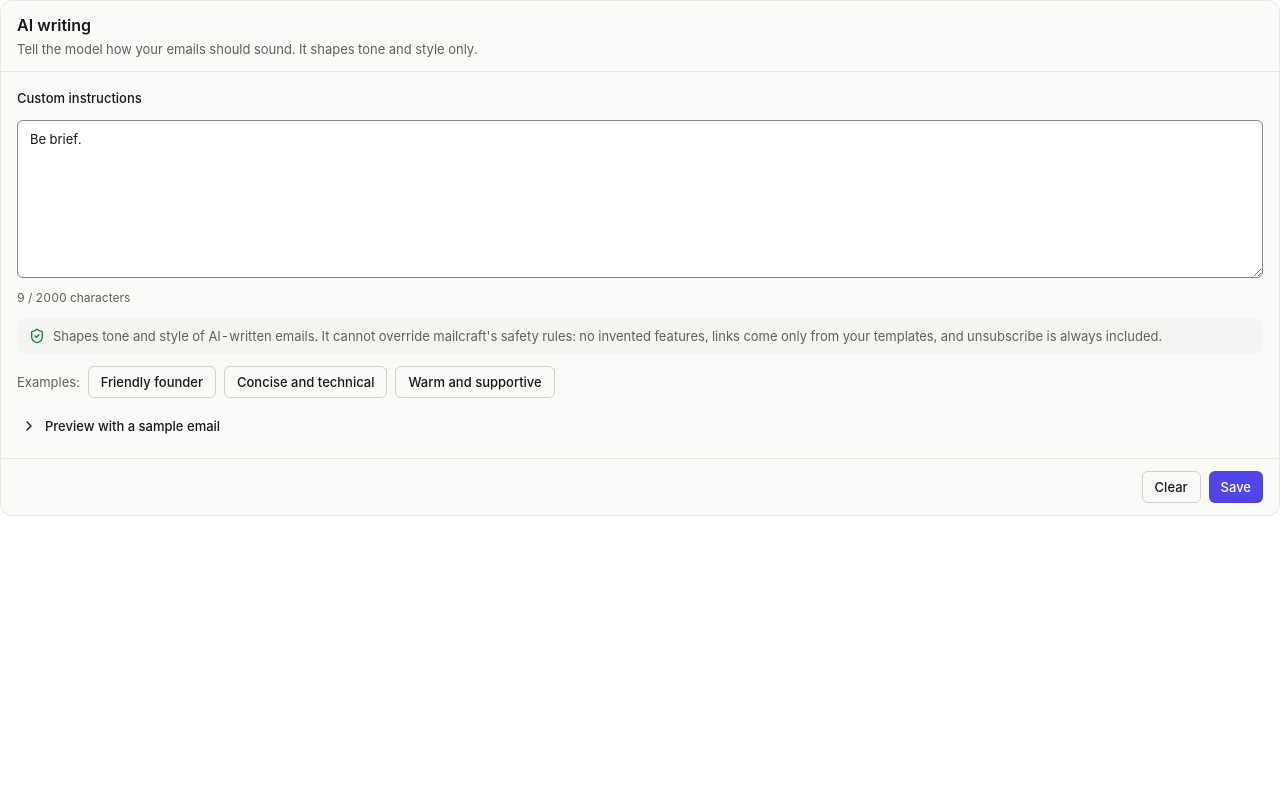
InstructionsForm › explains safety rules and toggles the preview
Expected: the text "cannot override" shows "unsubscribe", left=53, top=328, right=1162, bottom=344
Step 1. Click the button "Preview with a sample email" → (121, 426), box left=9, top=410, right=232, bottom=442
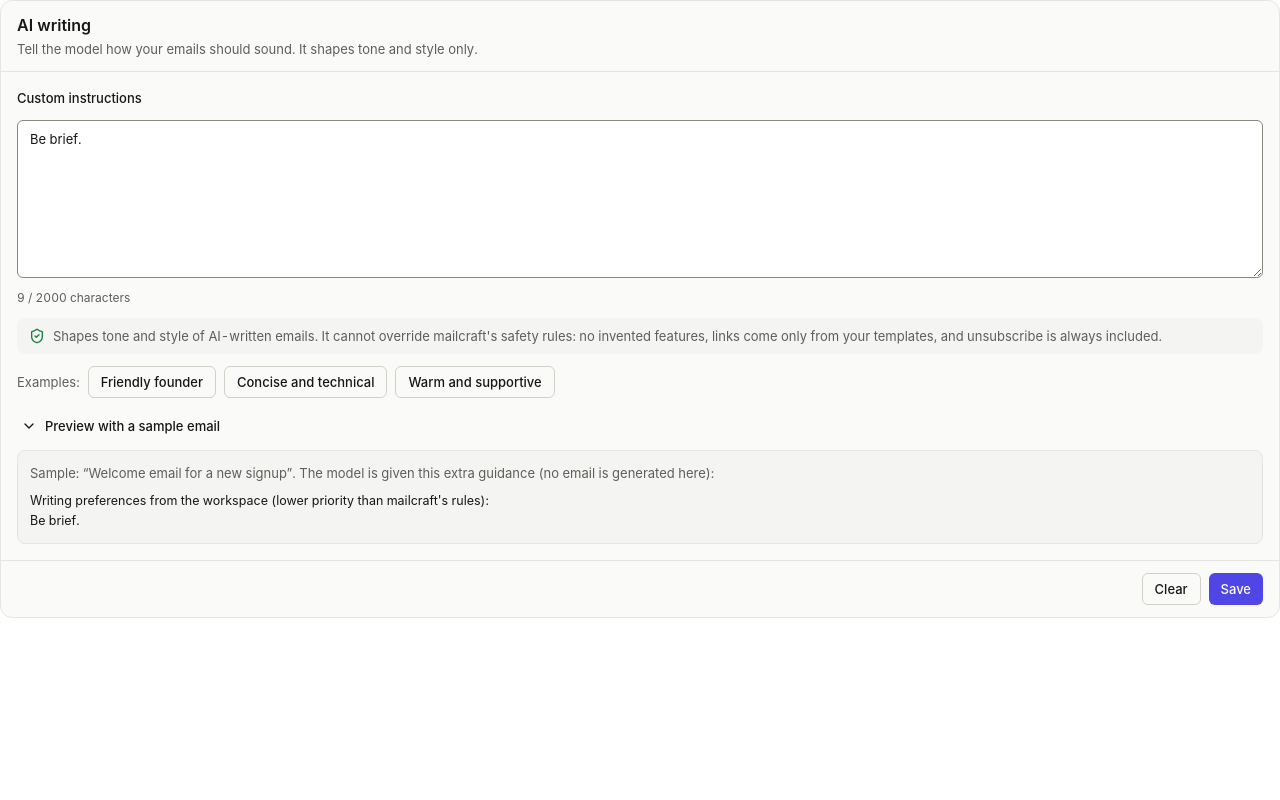
Expected: the button "Preview with a sample email" is expanded, left=9, top=410, right=232, bottom=442
